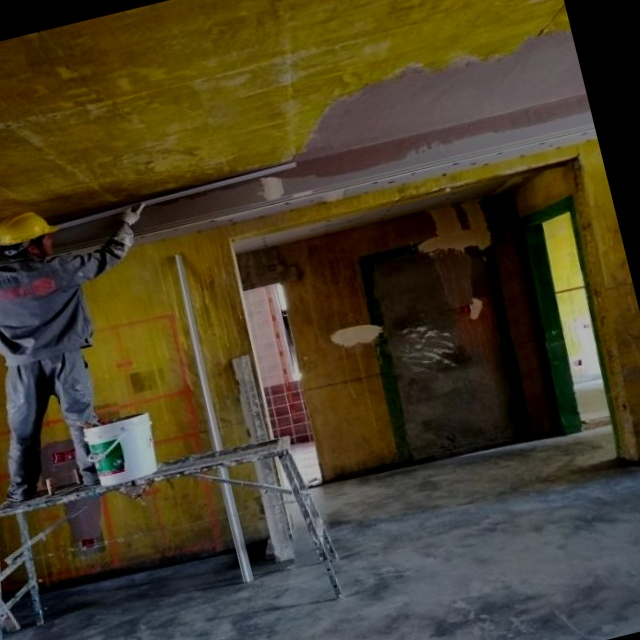Con_Casco: (0, 206, 61, 262)
Sin_Chaleco: (0, 248, 96, 365)
